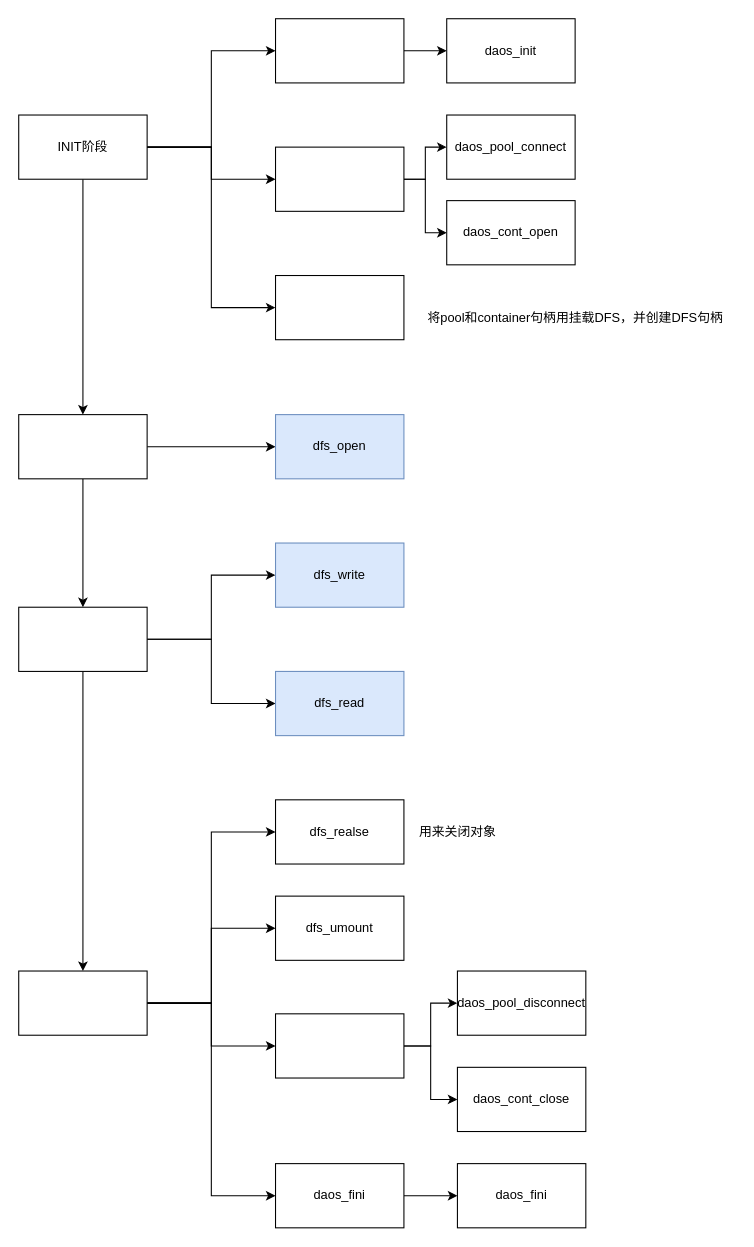
Some shapes in this 754 by 1247 pixel diagram are drawn without their labels. Each missing label, with the centre of its shape:
"dfs_connect" belongs at point (339, 178).
"dfs_disconect" belongs at point (339, 1045).
"dfs_init" belongs at point (339, 50).
"dfs_mount" belongs at point (339, 307).
"IO阶段" belongs at point (82, 638).
"OPEN阶段" belongs at point (82, 446).
"资源释放" belongs at point (82, 1002).
